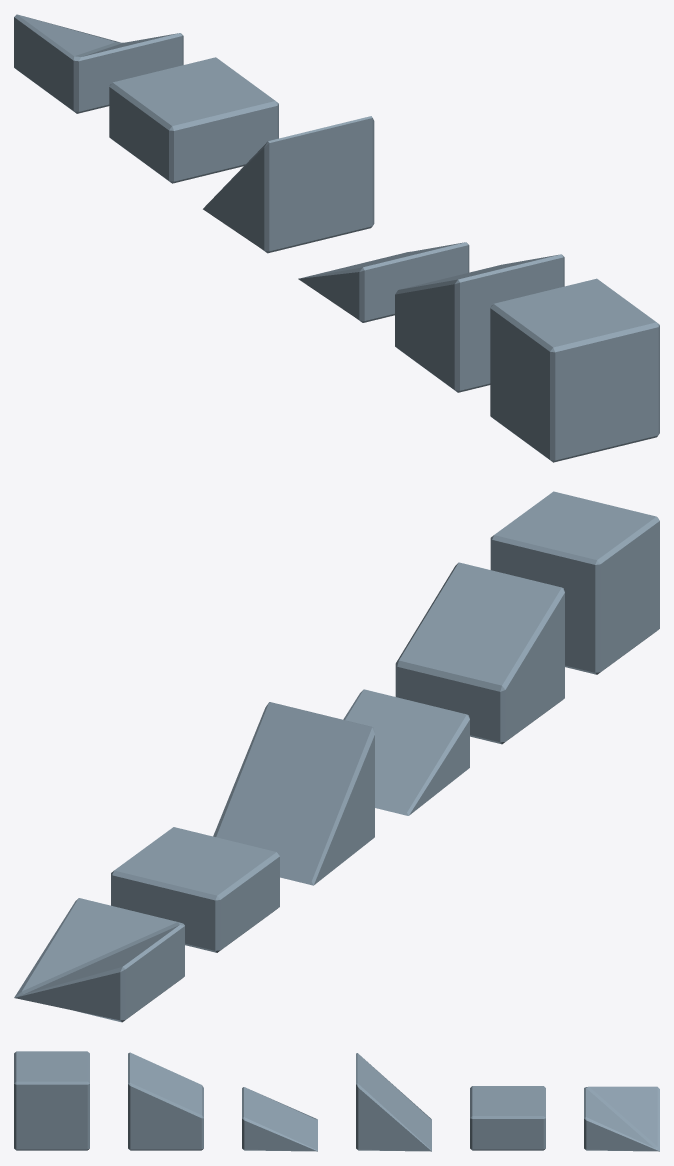
Rendered from world-block-v1.glb.
The picture shows the model from 3 angles, top to bottom: view 1: azimuth 30°, elevation 25°; view 2: azimuth 150°, elevation 25°; view 3: azimuth 270°, elevation 25°; orthographic projection. The views are drawn at different scales.
Parts seen in each view (by area): view 1: Block, Ramp, BlockHalf, RampTop, RampCorner, RampBottom; view 2: RampTop, Ramp, Block, BlockHalf, RampCorner, RampBottom; view 3: Block, RampTop, Ramp, RampCorner, BlockHalf, RampBottom.
Part boxes in pixels (x1,y1,x2,y2): Block: [490, 278, 659, 462]; Ramp: [203, 116, 374, 253]; BlockHalf: [109, 57, 278, 183]; RampTop: [395, 254, 564, 392]; RampCorner: [14, 14, 183, 113]; RampBottom: [298, 242, 469, 322]; RampTop: [395, 562, 564, 744]; Ramp: [213, 702, 374, 885]; Block: [490, 491, 659, 674]; BlockHalf: [111, 827, 279, 952]; RampCorner: [14, 898, 184, 1022]; RampBottom: [343, 689, 469, 815]; Block: [14, 1051, 89, 1150]; RampTop: [128, 1052, 203, 1150]; Ramp: [356, 1053, 431, 1151]; RampCorner: [584, 1086, 659, 1151]; BlockHalf: [470, 1086, 545, 1150]; RampBottom: [242, 1087, 317, 1151].
Size of what is drawn, in the model's own units: 2 by 2 by 17.
